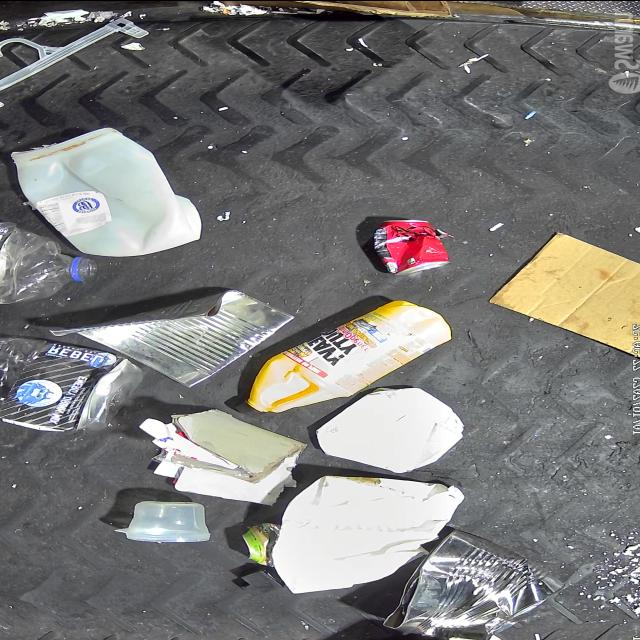can: (384, 527, 568, 640), (371, 214, 453, 270), (242, 521, 276, 561)
milk_jug: (10, 126, 202, 256)
non_white_jug: (236, 303, 456, 417)
plastic_bottle: (0, 334, 146, 430), (0, 217, 97, 302)
